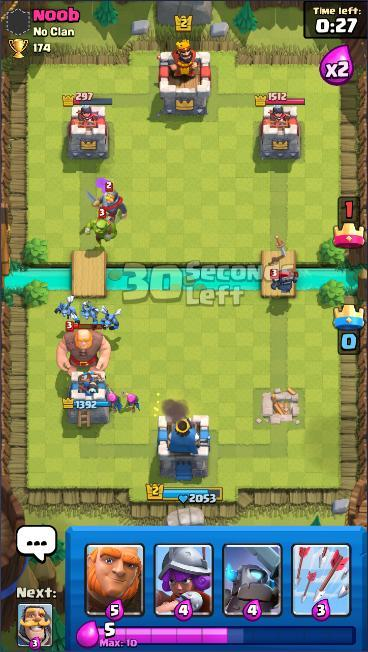ally_archer: (119, 390, 144, 416), (102, 386, 124, 415)
ally_minion: (97, 303, 123, 332), (53, 294, 79, 321), (79, 299, 101, 326)
enemy_brawler: (84, 207, 119, 250)
enemy_giant: (56, 319, 114, 379)
enemy_knight: (84, 180, 130, 224)
enemy_mini_pekka: (268, 266, 301, 295)
